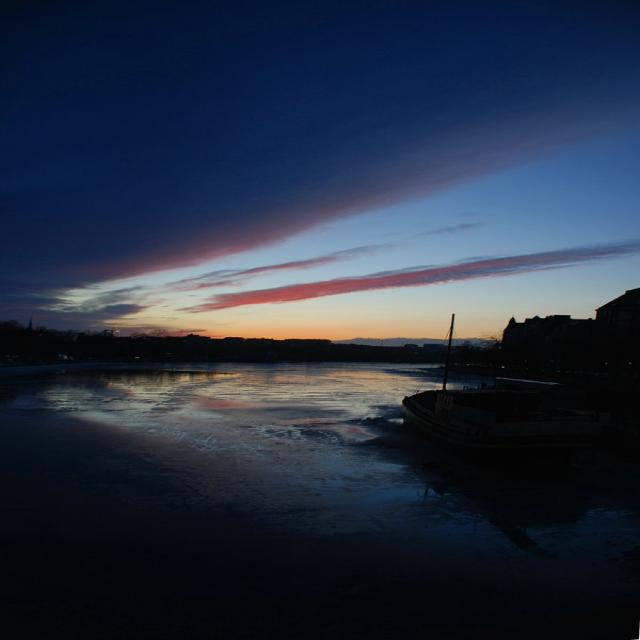Boat: (349, 342, 640, 497)
